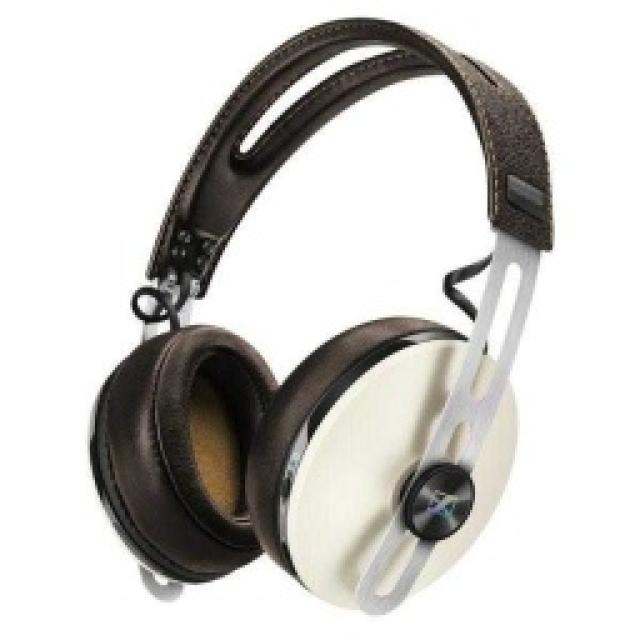headphones: (87, 13, 555, 615)
